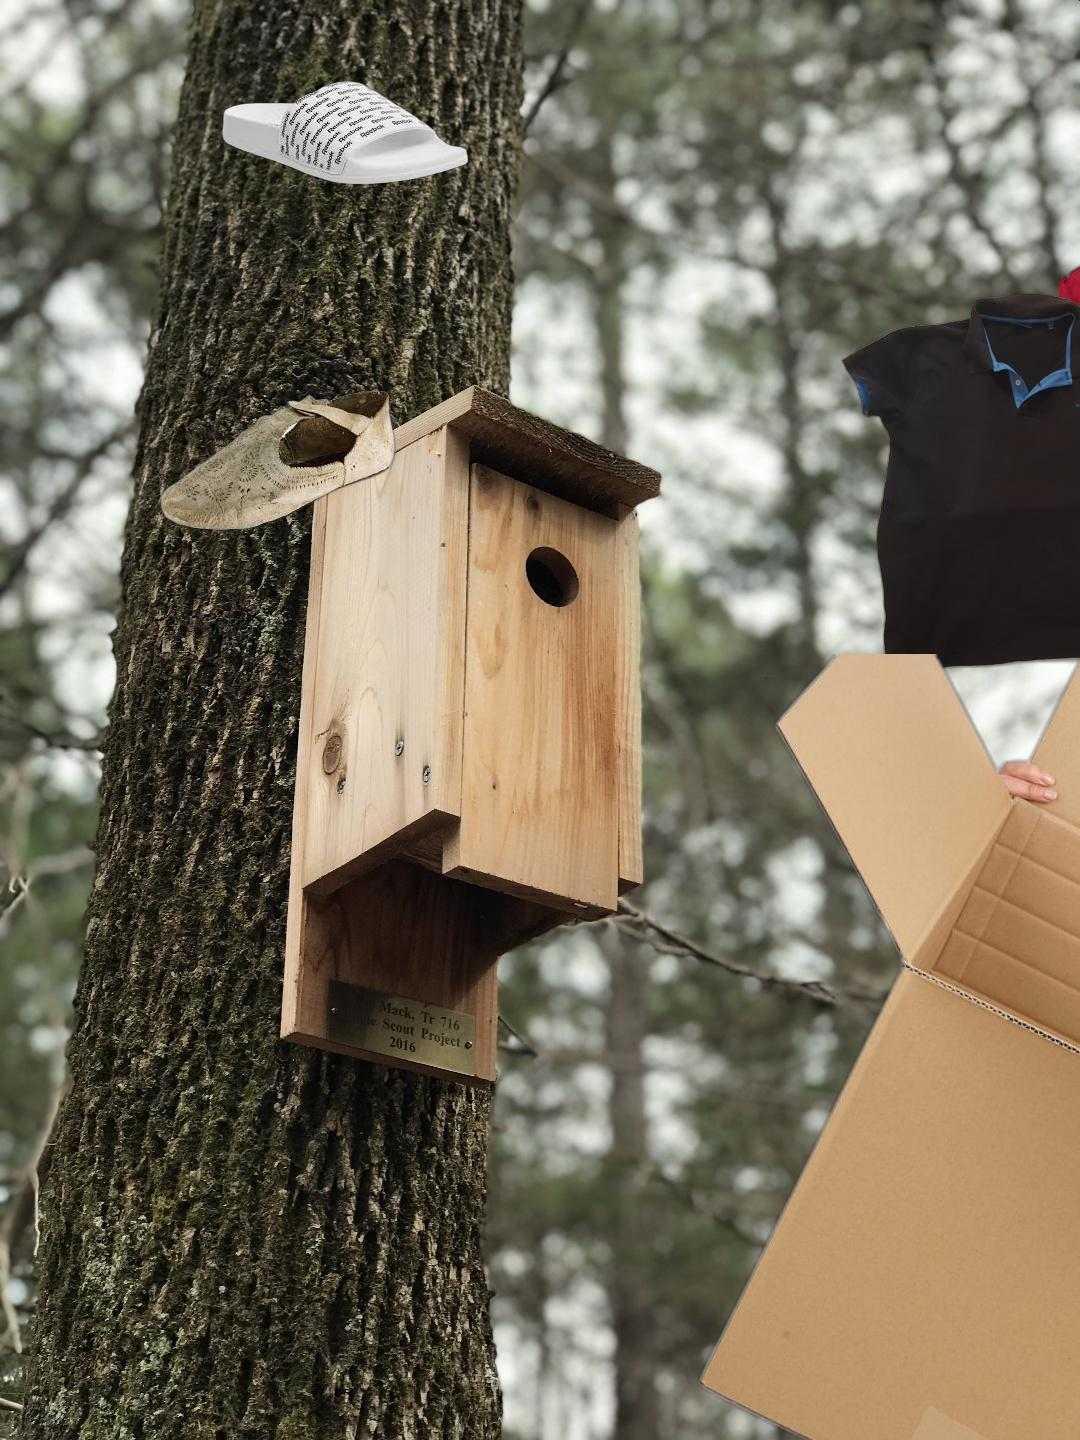clothes: (839, 290, 1080, 672), (1058, 201, 1080, 600)
metal-cans: (763, 677, 1080, 1294)
shoes: (158, 388, 398, 533), (220, 78, 471, 187)
trashbox-cardboard: (692, 654, 1080, 1440)
